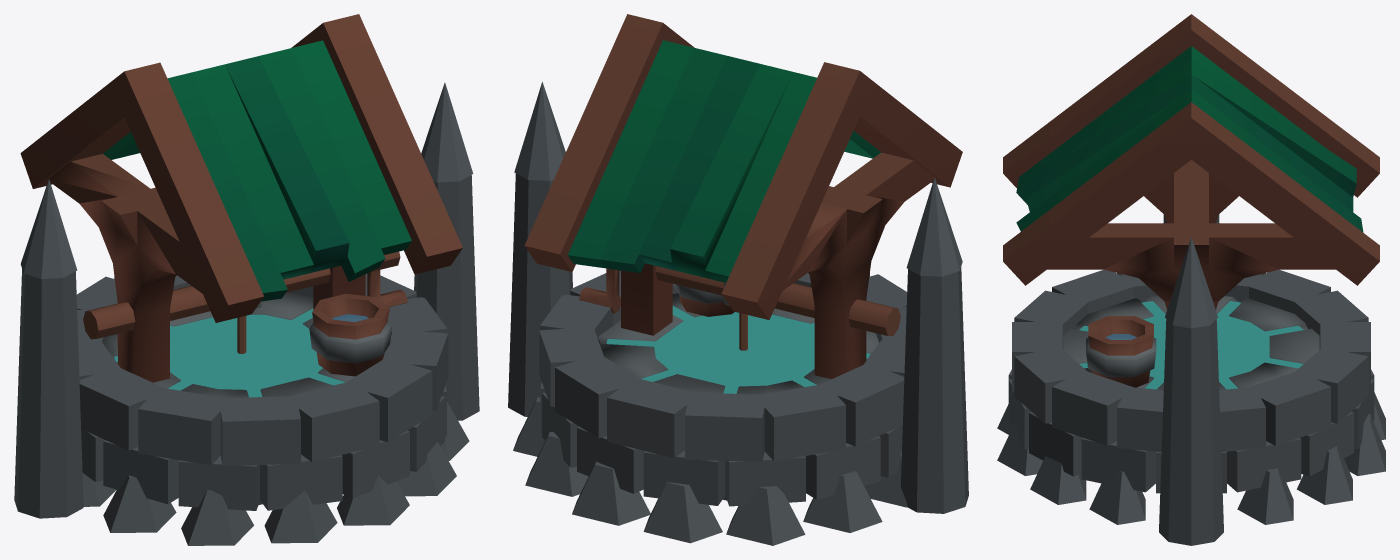
Rendered from vado_fuentes.glb.
The picture shows the model from 3 angles, left to right: view 1: azimuth 30°, elevation 25°; view 2: azimuth 150°, elevation 25°; view 3: azimuth 270°, elevation 25°; orthographic projection. The views are drawn at different scales.
Parts seen in each view (by area): view 1: fuente_rohan__building_well_green, fuente_isengard__pilar, fuente_isengard__agua_curacion, fuente_isengard__pilar.001, fuente_isengard__brocal.022, fuente_isengard__brocal.024, fuente_isengard__brocal.023, fuente_isengard__brocal.021, fuente_isengard__brocal.025, fuente_isengard__brocal.010, fuente_isengard__brocal.009, fuente_isengard__pincho (+16 smaller); view 2: fuente_rohan__building_well_green, fuente_isengard__pilar, fuente_isengard__agua_curacion, fuente_isengard__pilar.001, fuente_isengard__brocal.018, fuente_isengard__brocal.019, fuente_isengard__brocal.017, fuente_isengard__brocal.020, fuente_isengard__brocal.016, fuente_isengard__brocal.004, fuente_isengard__brocal.005, fuente_isengard__rock_smallA.004 (+17 smaller); view 3: fuente_rohan__building_well_green, fuente_isengard__pilar.001, fuente_isengard__agua_curacion, fuente_isengard__brocal.015, fuente_isengard__brocal.026, fuente_isengard__brocal.025, fuente_isengard__brocal.016, fuente_isengard__brocal.013, fuente_isengard__brocal.001, fuente_isengard__brocal.027, fuente_isengard__brocal.014, fuente_isengard__pincho.001 (+16 smaller).
Boxes of the visible parts, x1,y1,x2,y2 form: fuente_rohan__building_well_green: [20, 14, 462, 505]; fuente_isengard__pilar: [14, 269, 83, 518]; fuente_isengard__agua_curacion: [114, 308, 345, 397]; fuente_isengard__pilar.001: [414, 175, 479, 420]; fuente_isengard__brocal.022: [138, 387, 230, 465]; fuente_isengard__brocal.024: [284, 381, 379, 461]; fuente_isengard__brocal.023: [220, 396, 300, 466]; fuente_isengard__brocal.021: [79, 368, 163, 450]; fuente_isengard__brocal.025: [342, 358, 432, 442]; fuente_isengard__brocal.010: [260, 454, 342, 510]; fuente_isengard__brocal.009: [178, 455, 259, 510]; fuente_isengard__pincho: [20, 179, 77, 279]; fuente_rohan__building_well_green: [524, 14, 962, 500]; fuente_isengard__pilar: [900, 267, 968, 513]; fuente_isengard__agua_curacion: [606, 306, 869, 393]; fuente_isengard__pilar.001: [508, 173, 572, 416]; fuente_isengard__brocal.018: [685, 392, 766, 461]; fuente_isengard__brocal.019: [757, 384, 845, 461]; fuente_isengard__brocal.017: [607, 379, 699, 457]; fuente_isengard__brocal.020: [817, 363, 904, 446]; fuente_isengard__brocal.016: [555, 354, 643, 438]; fuente_isengard__brocal.004: [643, 450, 725, 505]; fuente_isengard__brocal.005: [725, 451, 805, 506]; fuente_isengard__rock_smallA.004: [643, 482, 722, 543]; fuente_rohan__building_well_green: [1003, 14, 1379, 390]; fuente_isengard__pilar.001: [1159, 319, 1223, 545]; fuente_isengard__agua_curacion: [1079, 301, 1303, 389]; fuente_isengard__brocal.015: [1245, 372, 1330, 445]; fuente_isengard__brocal.026: [1052, 372, 1132, 445]; fuente_isengard__brocal.025: [1014, 347, 1090, 423]; fuente_isengard__brocal.016: [1292, 347, 1368, 423]; fuente_isengard__brocal.013: [1081, 438, 1155, 492]; fuente_isengard__brocal.001: [1227, 438, 1301, 492]; fuente_isengard__brocal.027: [1117, 387, 1163, 451]; fuente_isengard__brocal.014: [1219, 387, 1265, 451]; fuente_isengard__pincho.001: [1165, 237, 1217, 328].
Size of the model in its own units: 3.24 by 2.8 by 2.62.
4 materials, 1 textured.
